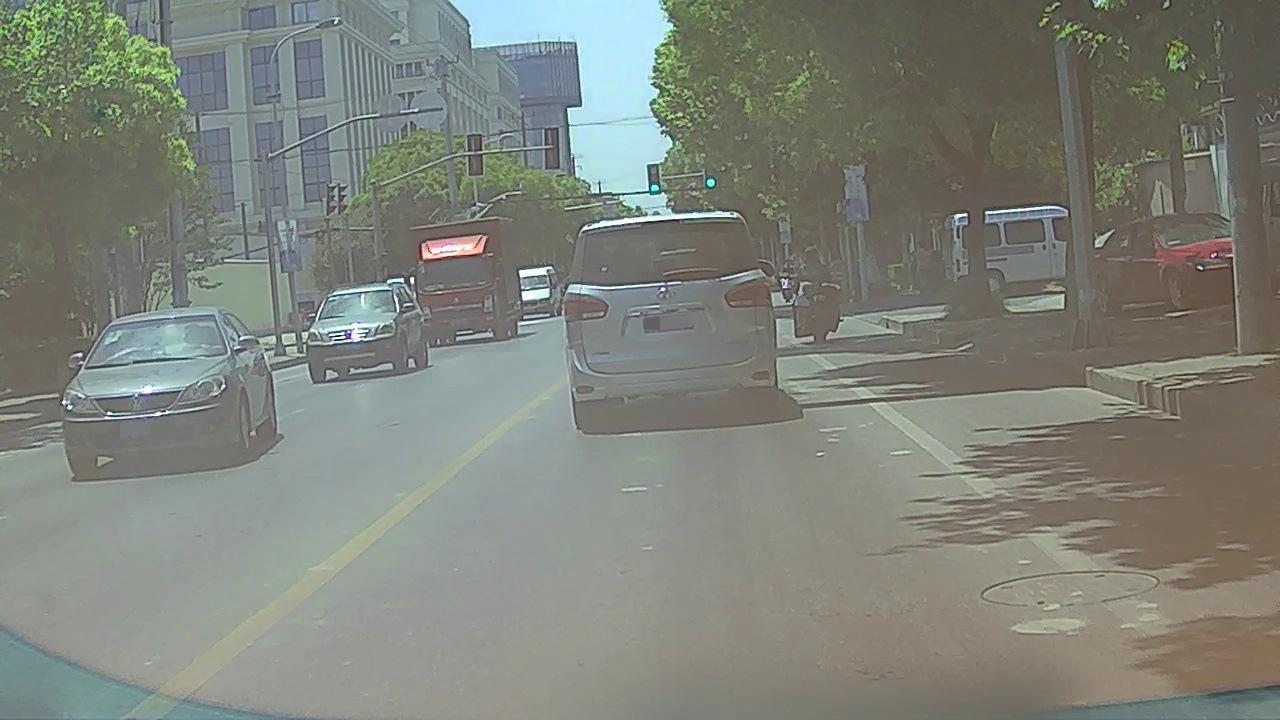traffic_light: (648, 164, 660, 195), (706, 163, 717, 190)
